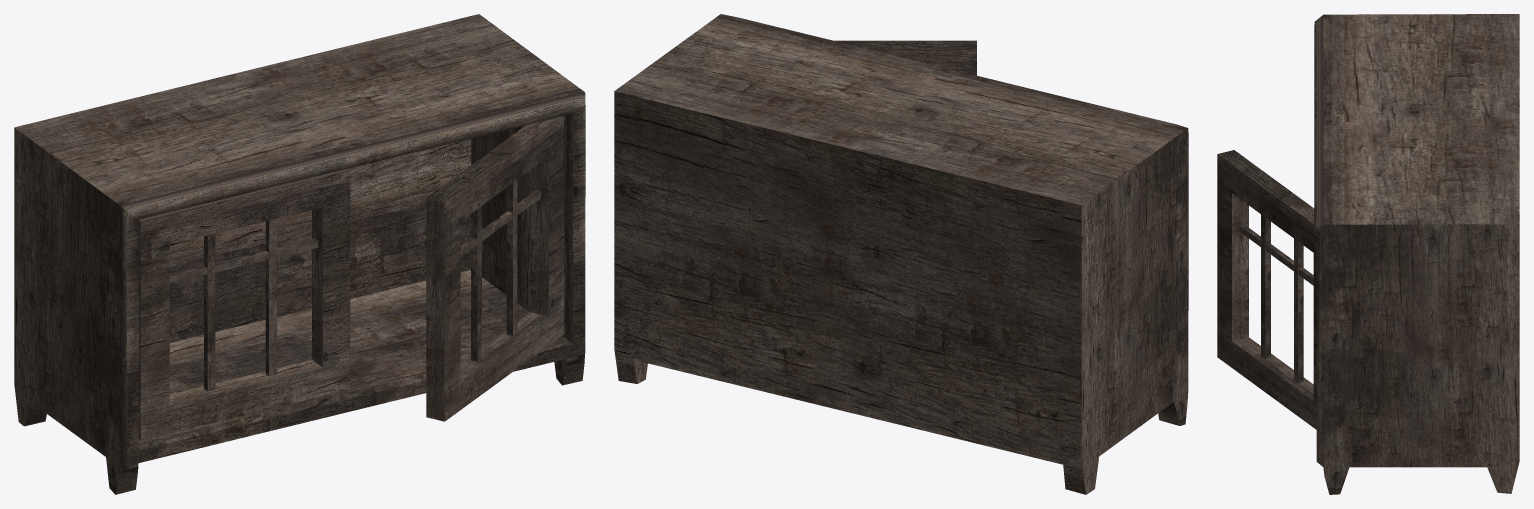
File: SM_dresser2Fix.fbx
The picture shows the model from 3 angles, left to right: view 1: azimuth 30°, elevation 25°; view 2: azimuth 150°, elevation 25°; view 3: azimuth 270°, elevation 25°; orthographic projection. The views are drawn at different scales.
Parts seen in each view (by area): view 1: SM_dresser2Fix; view 2: SM_dresser2Fix; view 3: SM_dresser2Fix.
Part boxes in pixels (<box>): SM_dresser2Fix: <box>14,14,585,494</box>; SM_dresser2Fix: <box>614,14,1188,494</box>; SM_dresser2Fix: <box>1217,14,1519,494</box>.
Size of the model in its own units: 147 by 88.8 by 87.77.
Materials: 1 (1 with a texture image).
